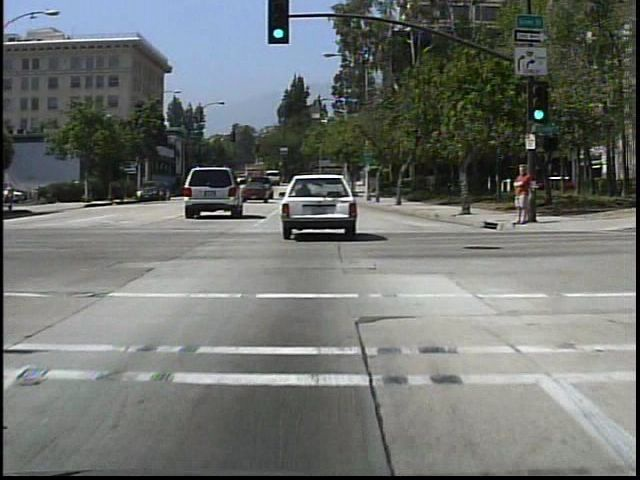person: (507, 162, 535, 228), (7, 181, 21, 210)
